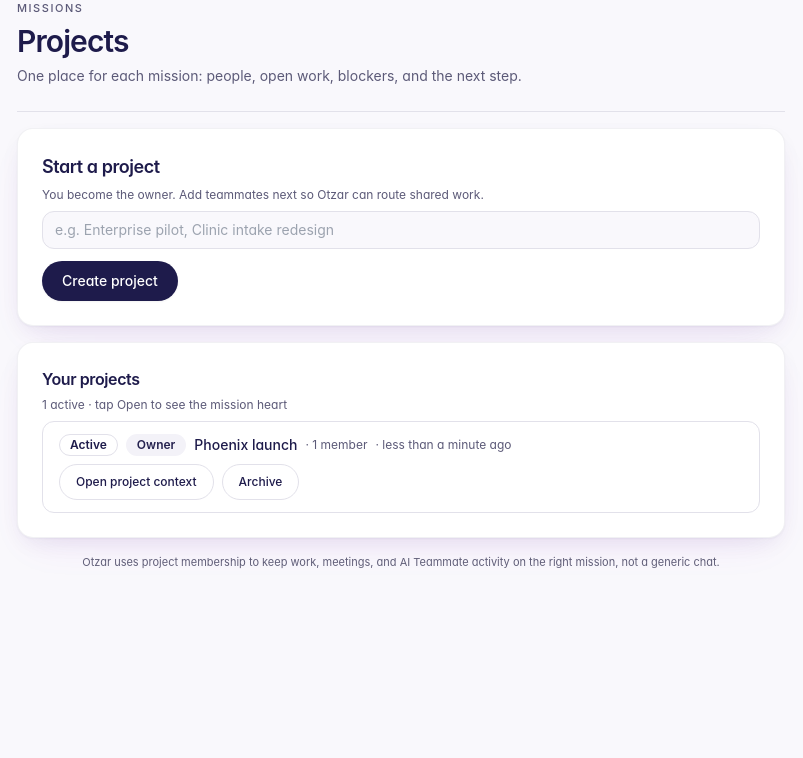
WorkProjects page › people panel shows display names and teammate picker
Expected: the text "Phoenix launch" is shown, [194, 435, 297, 455]
Click the button "Open project context" at (136, 482), box [59, 464, 214, 500]
(page scrolled)
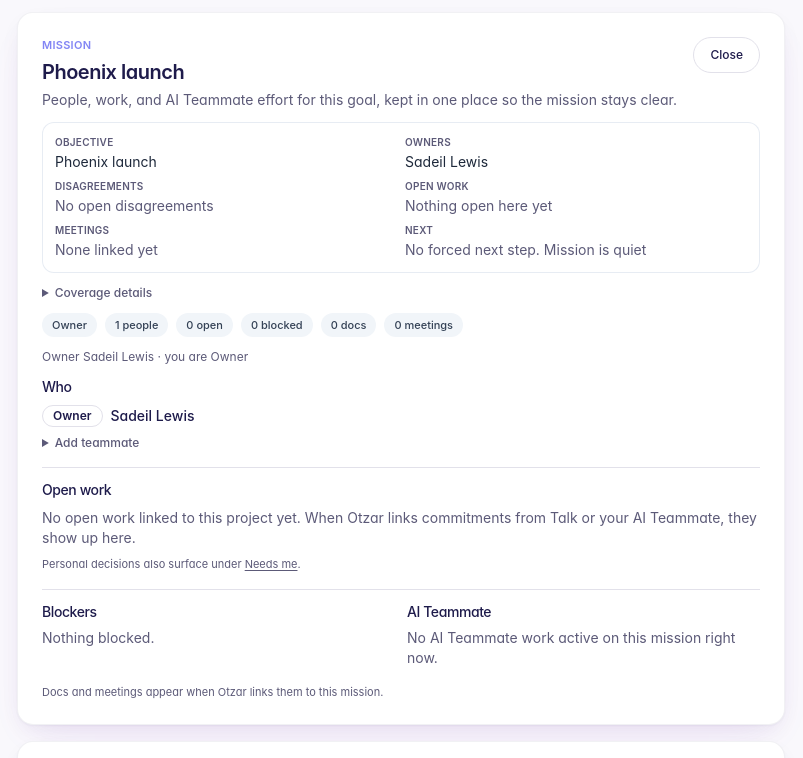
Result: the element with test id "project-members-panel" is shown at [42, 405, 194, 427]
Result: the text "Sadeil Lewis" below "Who" is shown at [110, 407, 194, 424]
Result: the element with test id "project-spine" is shown at [42, 122, 760, 273]
